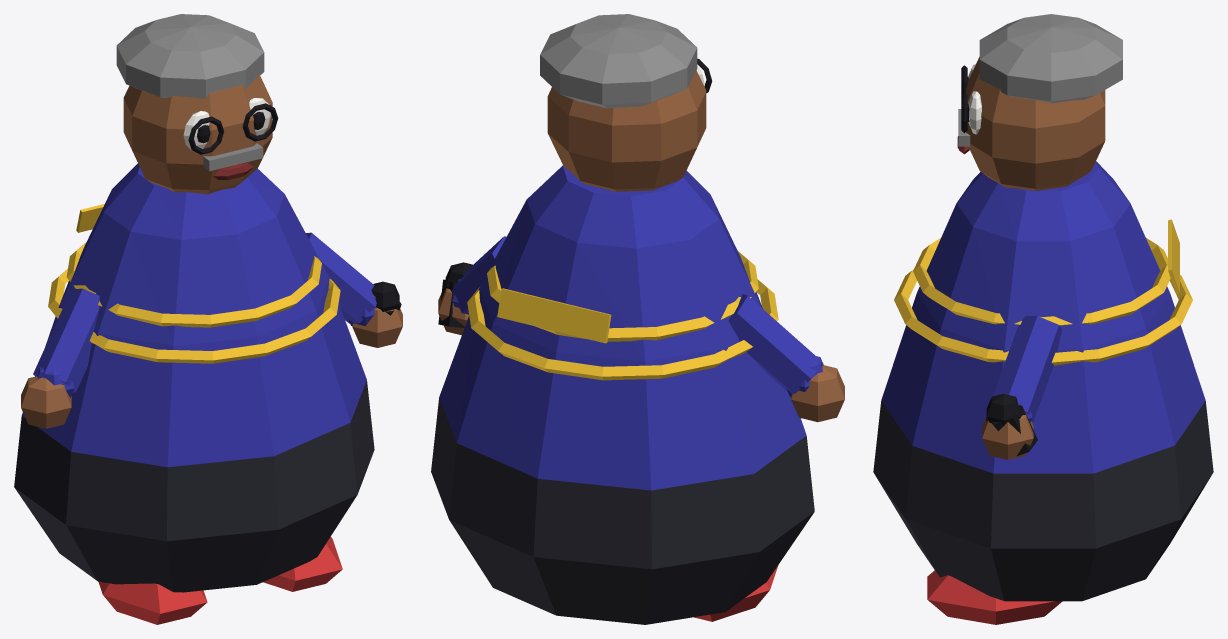
The model's file is npc_bowler_b.glb.
3 renders of one model, left to right at view 1: azimuth 30°, elevation 25°; view 2: azimuth 150°, elevation 25°; view 3: azimuth 270°, elevation 25°, orthographic. The views are drawn at different scales.
Visible parts, largest first — view 1: body_npc_bowler_b_shirt, body_league_pants, head_npc_bowler_b_skin, hair_npc_bowler_b_hair, stripe_league_stripe, arms_npc_bowler_b_shirt, legs_rental_shoes, arms_npc_bowler_b_skin, glasses_black, face_npc_bowler_b_hair, face_white, brace_black; view 2: body_npc_bowler_b_shirt, body_league_pants, head_npc_bowler_b_skin, hair_npc_bowler_b_hair, stripe_league_stripe, arms_npc_bowler_b_shirt, arms_npc_bowler_b_skin, legs_rental_shoes, brace_black; view 3: body_npc_bowler_b_shirt, body_league_pants, head_npc_bowler_b_skin, hair_npc_bowler_b_hair, stripe_league_stripe, arms_npc_bowler_b_shirt, legs_rental_shoes, arms_npc_bowler_b_skin, brace_black, face_white.
Boxes of the visible parts, bbox=[...] form: body_npc_bowler_b_shirt: bbox=[22, 163, 366, 467]; body_league_pants: bbox=[14, 380, 374, 592]; head_npc_bowler_b_skin: bbox=[123, 74, 272, 194]; hair_npc_bowler_b_hair: bbox=[116, 14, 264, 98]; stripe_league_stripe: bbox=[48, 204, 340, 363]; arms_npc_bowler_b_shirt: bbox=[33, 232, 376, 397]; legs_rental_shoes: bbox=[98, 537, 342, 624]; arms_npc_bowler_b_skin: bbox=[21, 307, 402, 428]; glasses_black: bbox=[188, 103, 278, 154]; face_npc_bowler_b_hair: bbox=[203, 143, 263, 171]; face_white: bbox=[183, 98, 271, 151]; brace_black: bbox=[371, 281, 401, 315]; body_npc_bowler_b_shirt: bbox=[439, 165, 806, 490]; body_league_pants: bbox=[431, 397, 814, 624]; head_npc_bowler_b_skin: bbox=[547, 70, 706, 191]; hair_npc_bowler_b_hair: bbox=[540, 14, 697, 108]; stripe_league_stripe: bbox=[467, 250, 778, 380]; arms_npc_bowler_b_shirt: bbox=[451, 236, 823, 396]; arms_npc_bowler_b_skin: bbox=[438, 288, 844, 422]; legs_rental_shoes: bbox=[694, 565, 778, 621]; brace_black: bbox=[438, 262, 472, 327]; body_npc_bowler_b_shirt: bbox=[881, 161, 1205, 473]; body_league_pants: bbox=[873, 401, 1213, 601]; head_npc_bowler_b_skin: bbox=[966, 57, 1105, 190]; hair_npc_bowler_b_hair: bbox=[979, 14, 1122, 103]; stripe_league_stripe: bbox=[894, 219, 1192, 365]; arms_npc_bowler_b_shirt: bbox=[993, 316, 1062, 422]; legs_rental_shoes: bbox=[927, 570, 1062, 624]; arms_npc_bowler_b_skin: bbox=[982, 415, 1033, 459]; brace_black: bbox=[985, 394, 1037, 455]; face_white: bbox=[968, 64, 981, 134].
Bounding box in the file's own units: 1.13 × 1.55 × 0.86.
